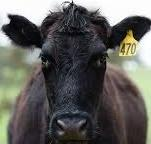muzzles: (48, 112, 98, 143)
